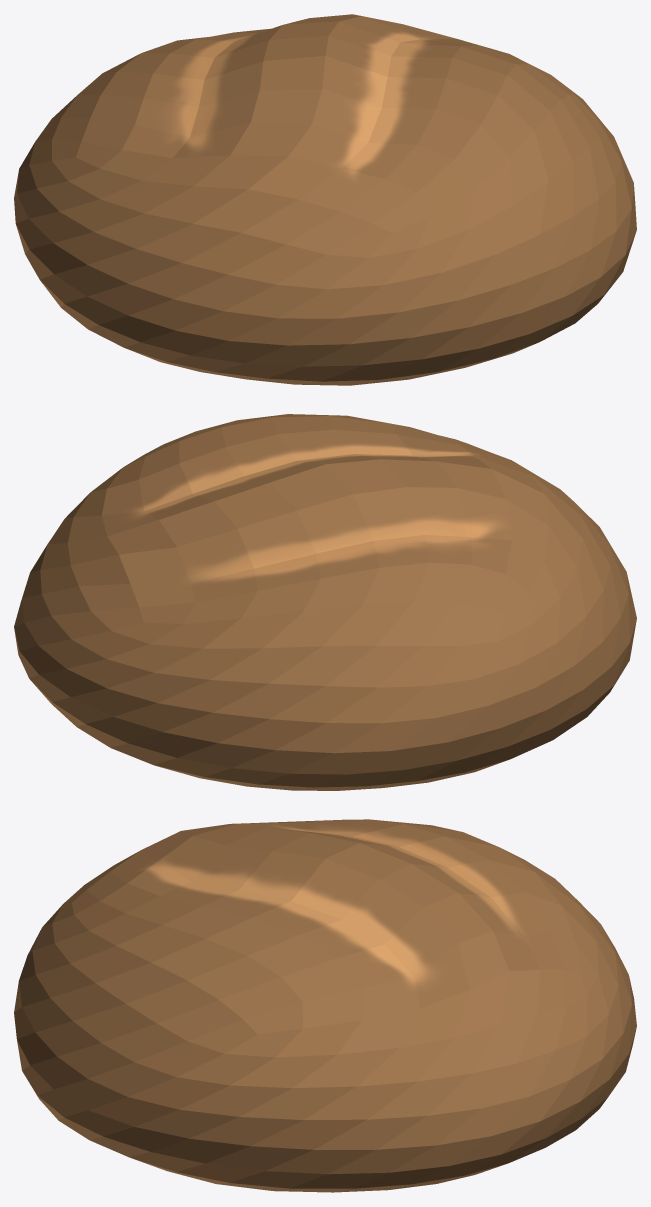
Rendered from round-loaf.fbx.
3 renders of one model, top to bottom at view 1: azimuth 30°, elevation 25°; view 2: azimuth 150°, elevation 25°; view 3: azimuth 270°, elevation 25°, orthographic. The views are drawn at different scales.
Parts seen in each view (by area): view 1: Loaf; view 2: Loaf; view 3: Loaf.
Part boxes in pixels (x1=…): Loaf: x1=14, y1=14, x2=636, y2=385; Loaf: x1=14, y1=414, x2=636, y2=790; Loaf: x1=14, y1=819, x2=636, y2=1192.
Bounding box in the file's own units: 113 × 46 × 113.
